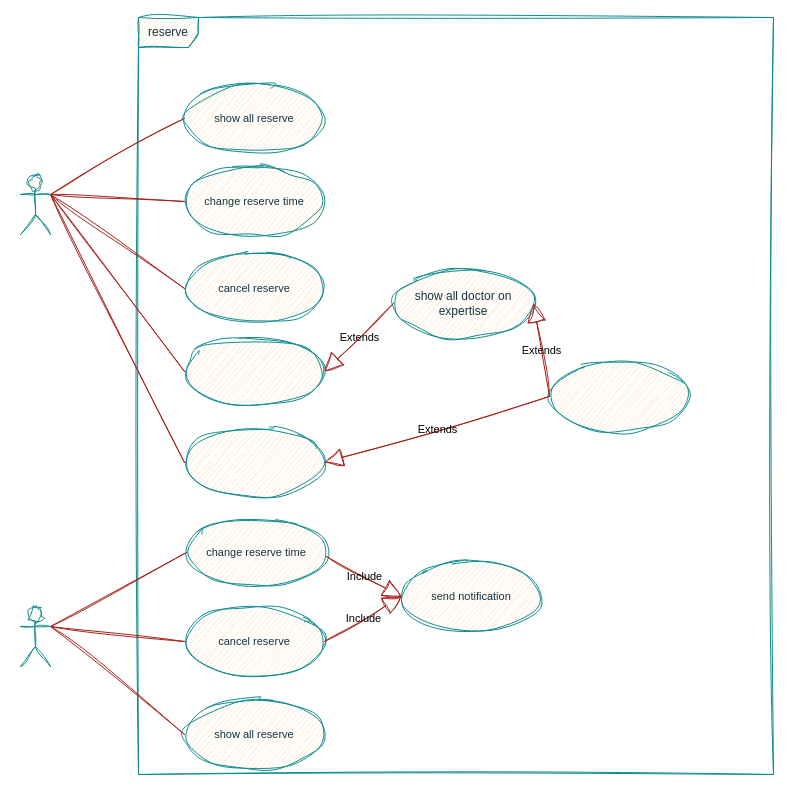
Some shapes in this 791 by 792 pixel diagram are drawn without their labels. The centre of each missing label's shape, as x and y in pixels:
doctor: (x=35, y=636)
patient: (x=35, y=204)
reservation: (x=619, y=396)
search by expertise or doctor: (x=254, y=462)
show all expertise: (x=254, y=371)
